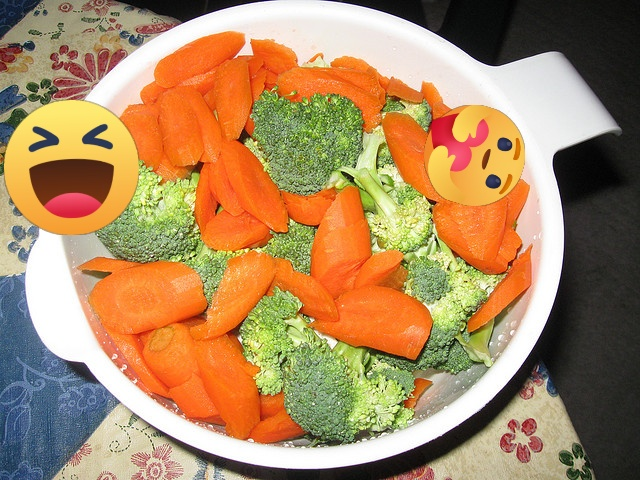care: (424, 105, 525, 206)
haha: (4, 100, 139, 235)
